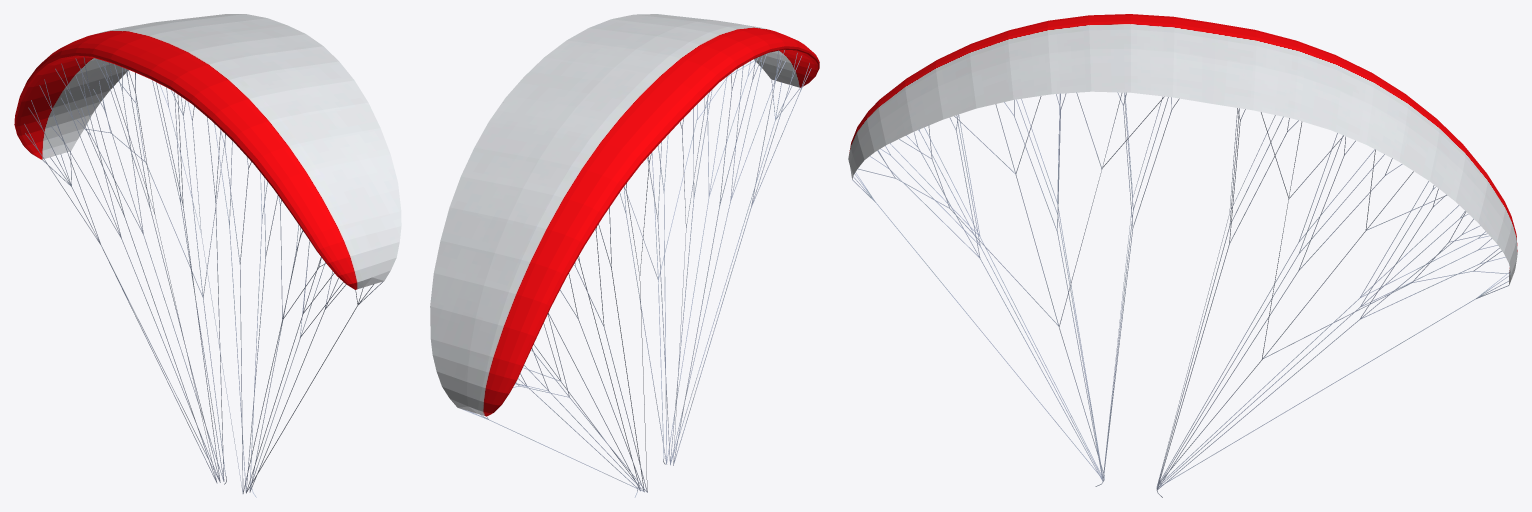
Rendered from parachute.glb.
3 views of the same model, side by side, from view 1: azimuth 30°, elevation 25°; view 2: azimuth 150°, elevation 25°; view 3: azimuth 270°, elevation 25° (orthographic). The views are drawn at different scales.
Visible parts, largest first — view 1: glider00; view 2: glider00; view 3: glider00.
Part boxes in pixels (<box>): glider00: <box>14,14,401,497</box>; glider00: <box>430,14,819,497</box>; glider00: <box>848,14,1517,497</box>.
Bounding box in the file's own units: 2.59 × 6.85 × 9.07.
2 materials, 2 textured.
